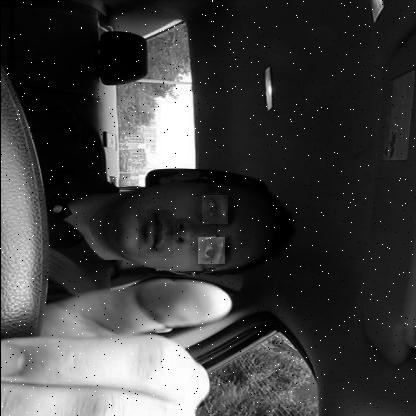seatbelt: (0, 152, 301, 310)
